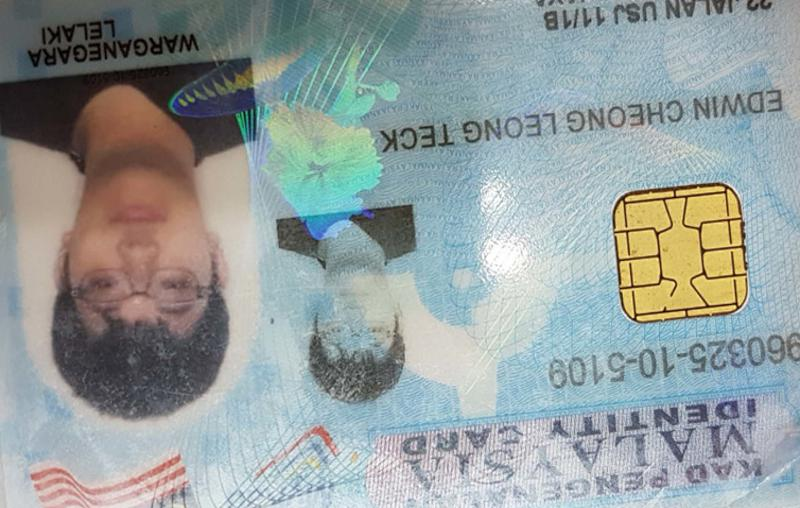hologramB: (253, 79, 381, 207)
